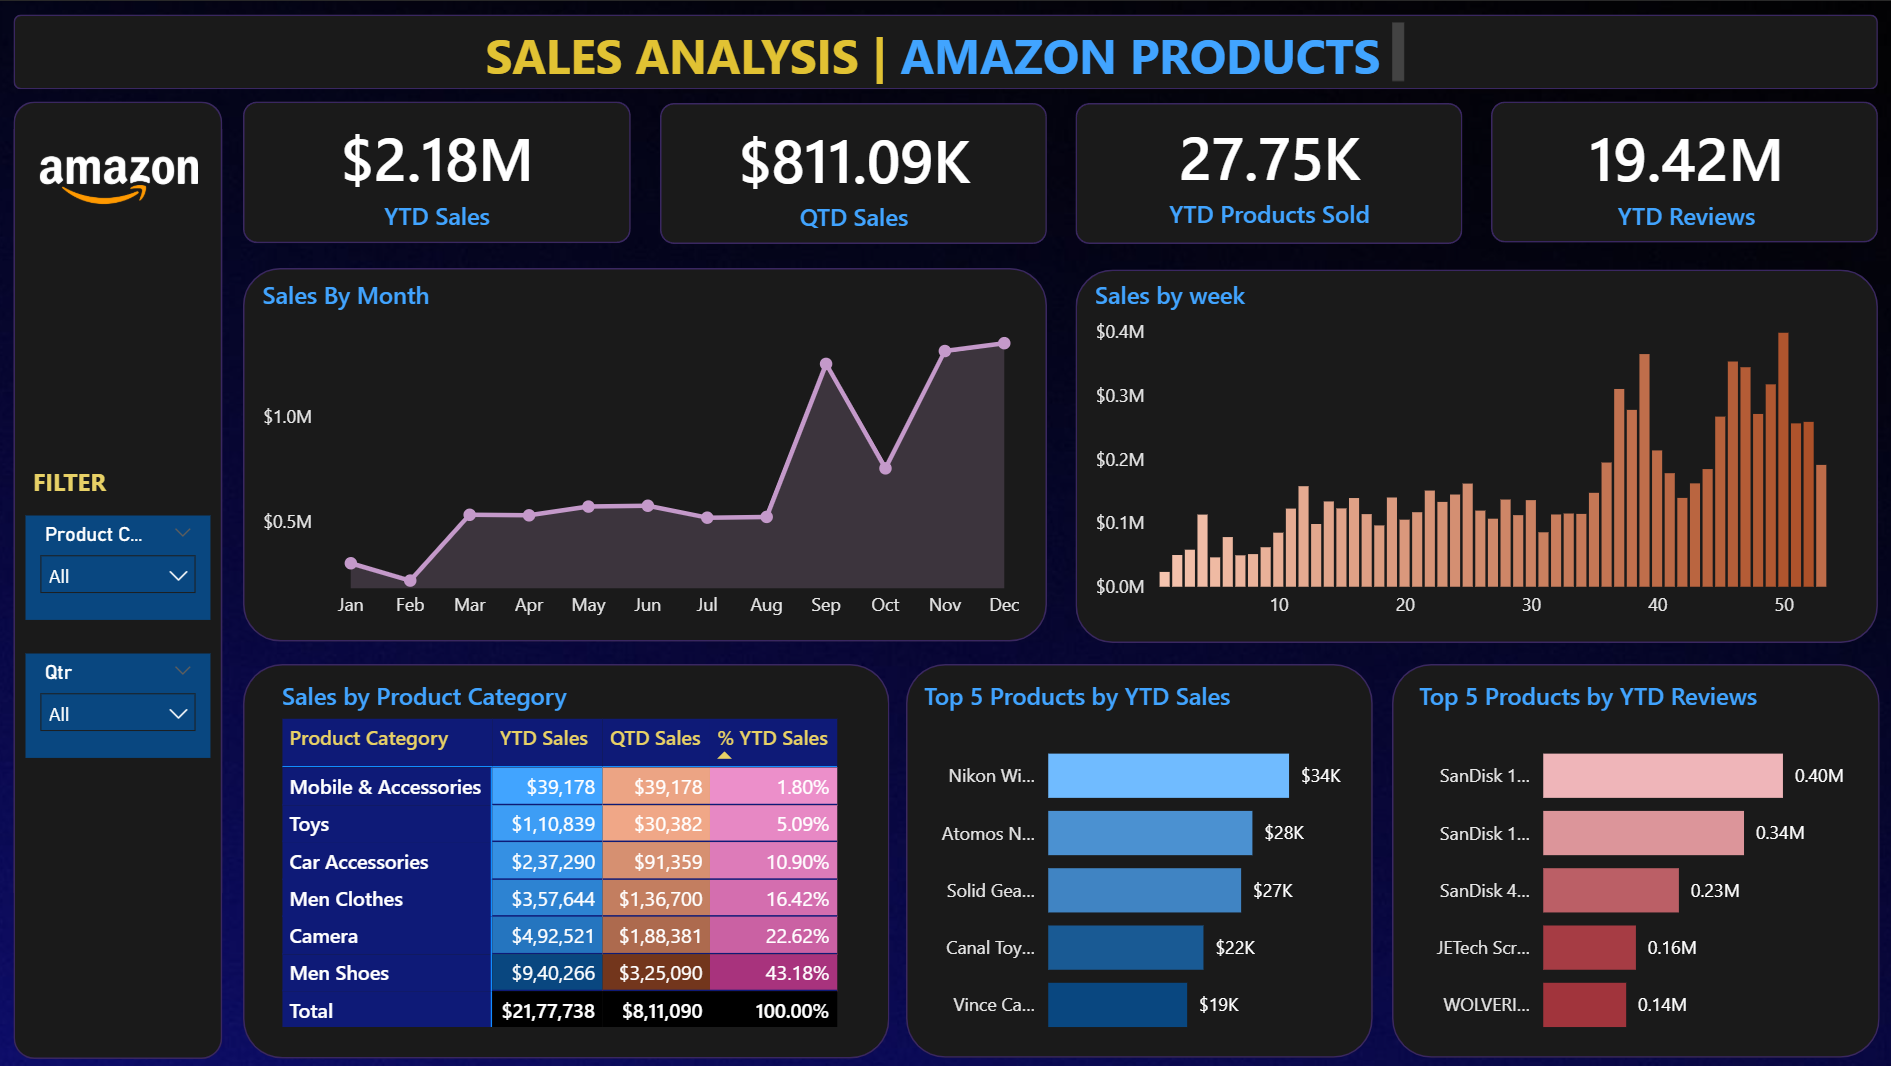

Layout of this report page (visuals, bound fields, positions):
{"tool":"powerbi","page":{"name":"Page 1","canvas":[1280,720],"ordinal":0},"visuals":[{"type":"shape","box":[169,67.4,260,95],"z":0,"group":"g1"},{"type":"shape","box":[15.1,9.1,1250.2,50.3],"z":0},{"type":"card","fields":{"Values":["Amazon_Data.YTD Sales"]},"box":[177,59.3,243.4,111.6],"z":1000,"group":"g1"},{"type":"textbox","box":[326.9,9.1,625.6,51.3],"z":1000},{"type":"shape","box":[727,68.4,259.5,94.5],"z":2000,"group":"g1"},{"type":"shape","box":[15,67,140,642],"z":2000},{"type":"shape","box":[448.3,68.4,259.5,94.5],"z":3000,"group":"g1"},{"type":"group","id":"g1","title":"Group 1","box":[169,58.3,1096.3,113.7],"z":3000},{"type":"shape","box":[1005.8,67.4,259.5,94.5],"z":4000,"group":"g1"},{"type":"shape","box":[169,179,539.1,250.4],"z":4000},{"type":"card","fields":{"Values":["Amazon_Data.QTD Sales"]},"box":[456.7,60.3,243.4,111.6],"z":5000,"group":"g1"},{"type":"areaChart","title":"Sales By Month","fields":{"Category":["Date Table.Month Name"],"Y":["Sum(Amazon_Data.Price(Dollar))"]},"box":[177,186,523,236.4],"z":5000},{"type":"card","fields":{"Values":["Amazon_Data.YTD SProducts Sold"]},"box":[735.2,58.3,243.4,111.6],"z":6000,"group":"g1"},{"type":"shape","box":[727.2,180,538.1,250.4],"z":6000},{"type":"card","fields":{"Values":["Amazon_Data.YTD Reviews"]},"box":[1016.9,59.3,239.4,111.6],"z":7000,"group":"g1"},{"type":"columnChart","title":"Sales by week","fields":{"Category":["Date Table.Week"],"Y":["Sum(Amazon_Data.Price(Dollar))"]},"box":[735.2,186,521,236.4],"z":7000},{"type":"shape","box":[614,445,313,264],"z":8000},{"type":"shape","box":[169,444.5,433.5,264.5],"z":9000},{"type":"pivotTable","title":"Sales by Product Category","fields":{"Rows":["Amazon_Data.Product Category"],"Values":["Amazon_Data.YTD Sales1","Amazon_Data.QTD Sales","Amazon_Data.YTD Sales"]},"box":[190.6,455,412.4,245.4],"z":10000},{"type":"shape","box":[939,445,327,264],"z":11000},{"type":"clusteredBarChart","title":"Top 5 Products by YTD Sales","fields":{"Category":["Amazon_Data.Product Description"],"Y":["Amazon_Data.YTD Sales"]},"box":[621,455,300.7,254.5],"z":12000},{"type":"clusteredBarChart","title":"Top 5 Products by YTD Reviews","fields":{"Category":["Amazon_Data.Product Description"],"Y":["Amazon_Data.YTD Reviews"]},"box":[952.9,455,300.7,254.5],"z":13000},{"type":"slicer","fields":{"Values":["Amazon_Data.Product Category"]},"box":[22.8,345.1,124.2,70.3],"z":14000},{"type":"slicer","fields":{"Values":["Date Table.Qtr"]},"box":[22.8,437.3,124.2,70.3],"z":15000},{"type":"image","box":[22.1,82.5,126.7,69.4],"z":16000},{"type":"textbox","box":[23.1,305.8,69.4,31.2],"z":17000}]}

Visuals, with their boxes in screenshot pixels (x1, y1, x2, y2), scaled from the page's 1280x720 canvas onto the 1891x1066 screenshot:
shape: pyautogui.locateOnScreen(250, 100, 634, 240)
shape: pyautogui.locateOnScreen(22, 13, 1869, 88)
card - Amazon_Data.YTD Sales: pyautogui.locateOnScreen(261, 88, 621, 253)
textbox: pyautogui.locateOnScreen(483, 13, 1407, 89)
shape: pyautogui.locateOnScreen(1074, 101, 1457, 241)
shape: pyautogui.locateOnScreen(22, 99, 229, 1050)
shape: pyautogui.locateOnScreen(662, 101, 1046, 241)
"Group 1" group: pyautogui.locateOnScreen(250, 86, 1869, 255)
shape: pyautogui.locateOnScreen(1486, 100, 1869, 240)
shape: pyautogui.locateOnScreen(250, 265, 1046, 636)
card - Amazon_Data.QTD Sales: pyautogui.locateOnScreen(675, 89, 1034, 255)
"Sales By Month" areaChart: pyautogui.locateOnScreen(261, 275, 1034, 625)
card - Amazon_Data.YTD SProducts Sold: pyautogui.locateOnScreen(1086, 86, 1446, 252)
shape: pyautogui.locateOnScreen(1074, 266, 1869, 637)
card - Amazon_Data.YTD Reviews: pyautogui.locateOnScreen(1502, 88, 1856, 253)
"Sales by week" columnChart: pyautogui.locateOnScreen(1086, 275, 1856, 625)
shape: pyautogui.locateOnScreen(907, 659, 1369, 1050)
shape: pyautogui.locateOnScreen(250, 658, 890, 1050)
"Sales by Product Category" pivotTable: pyautogui.locateOnScreen(282, 674, 891, 1037)
shape: pyautogui.locateOnScreen(1387, 659, 1870, 1050)
"Top 5 Products by YTD Sales" clusteredBarChart: pyautogui.locateOnScreen(917, 674, 1362, 1050)
"Top 5 Products by YTD Reviews" clusteredBarChart: pyautogui.locateOnScreen(1408, 674, 1852, 1050)
slicer - Amazon_Data.Product Category: pyautogui.locateOnScreen(34, 511, 217, 615)
slicer - Date Table.Qtr: pyautogui.locateOnScreen(34, 647, 217, 752)
image: pyautogui.locateOnScreen(33, 122, 220, 225)
textbox: pyautogui.locateOnScreen(34, 453, 137, 499)
